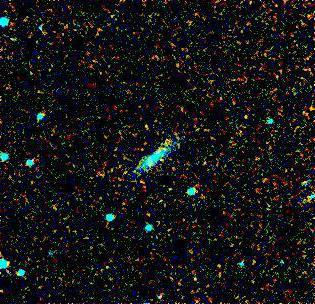star: (152, 125, 182, 155)
